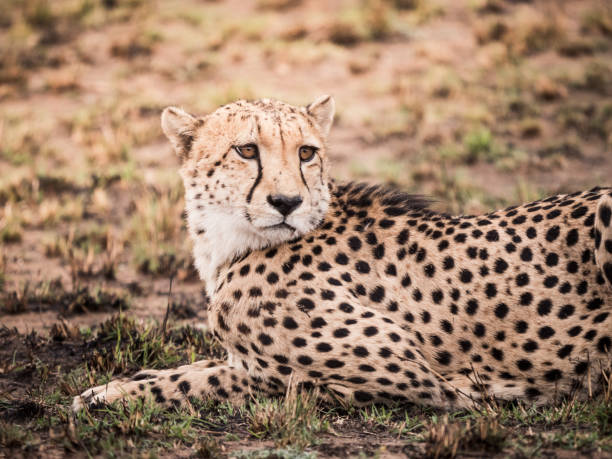cheetah: (145, 85, 376, 241)
